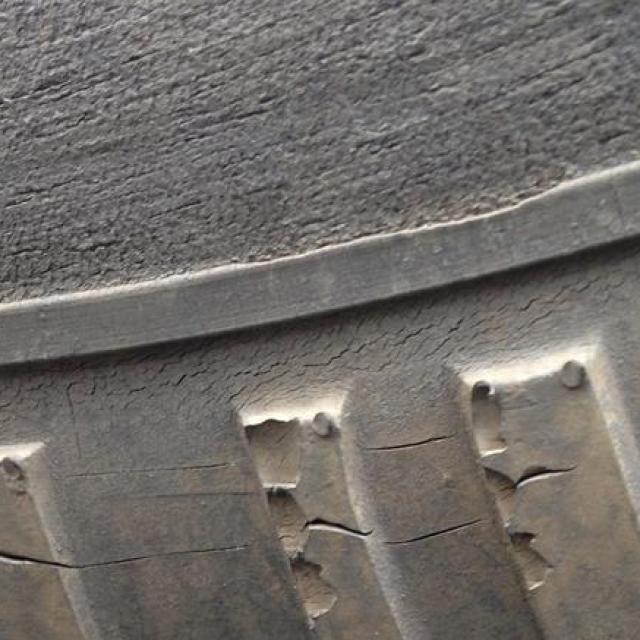Cracks: (0, 0, 639, 419), (0, 530, 255, 578), (276, 508, 495, 558), (351, 423, 468, 469), (490, 451, 596, 499)
